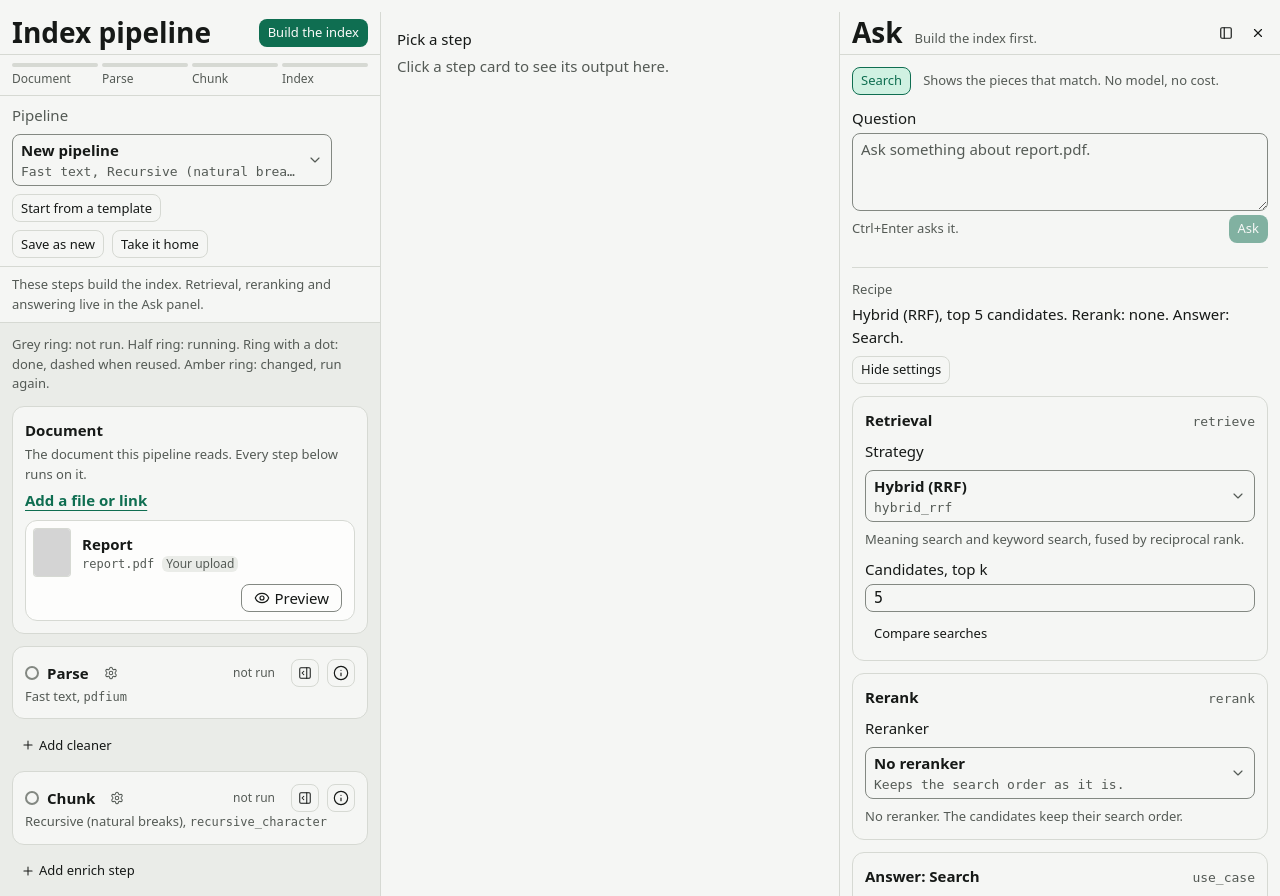
Test case: Build the index › says Building, disabled and busy, while its run is in flight
Step 1. Click the button "Build the index" → (313, 33), box left=259, top=19, right=368, bottom=47
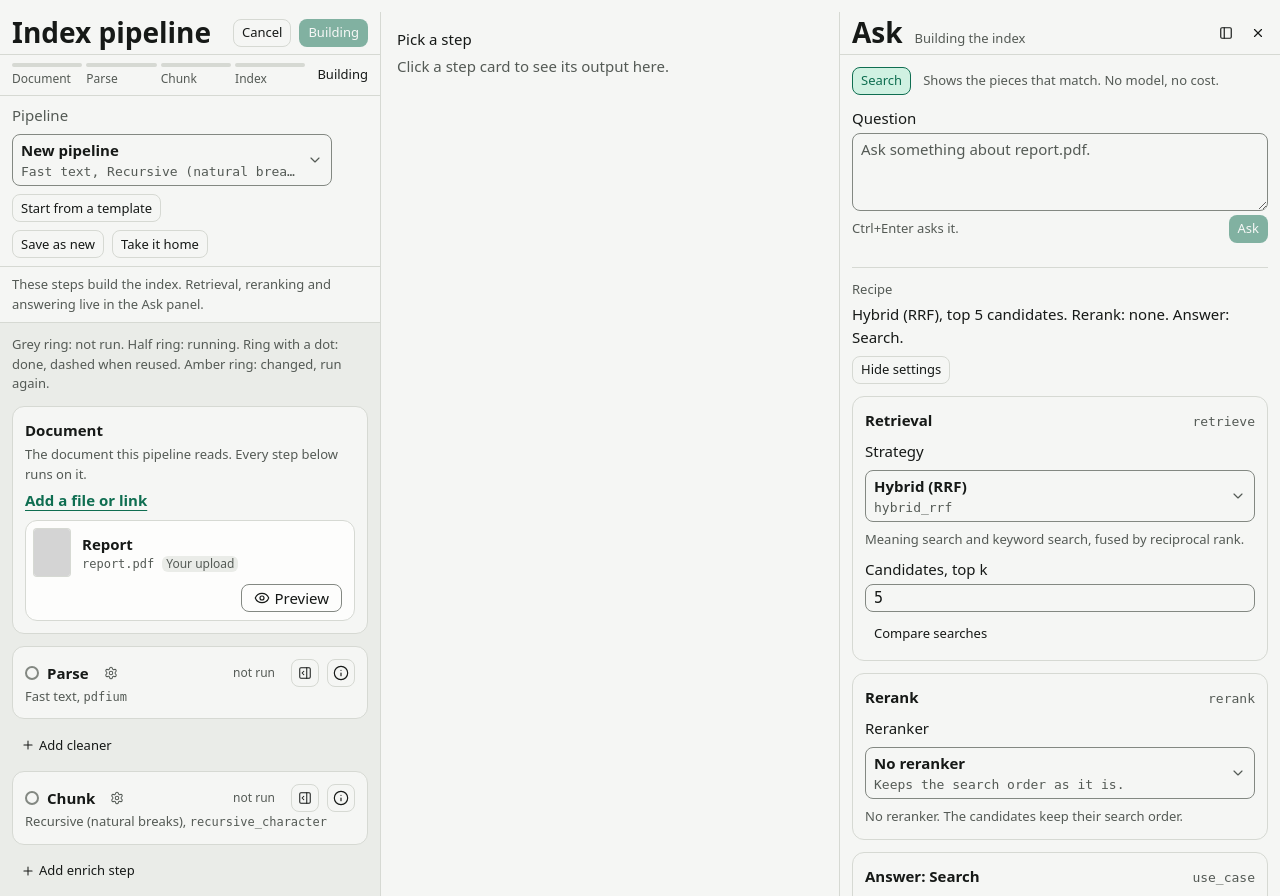
Expected: the button "Building" is disabled, left=299, top=19, right=368, bottom=47
